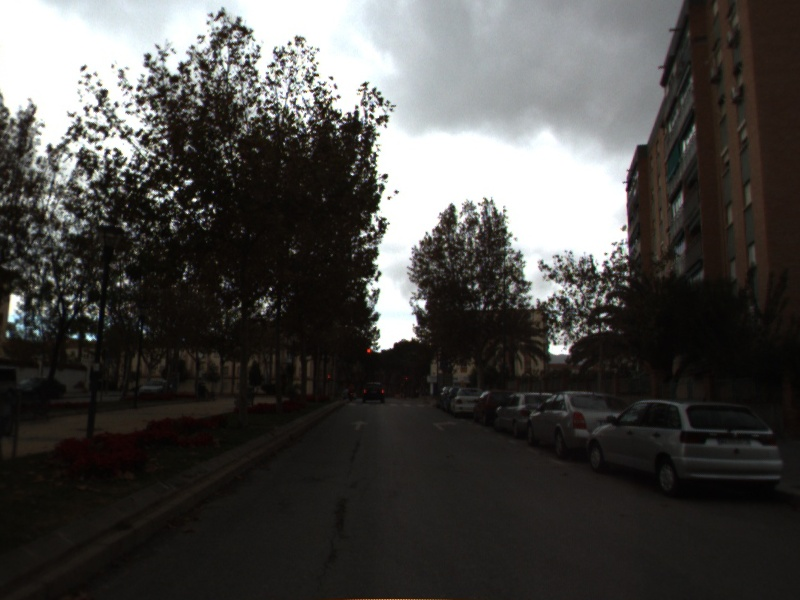RIGHT: (430, 418, 460, 434)
STRAIGHT: (348, 418, 371, 433)
